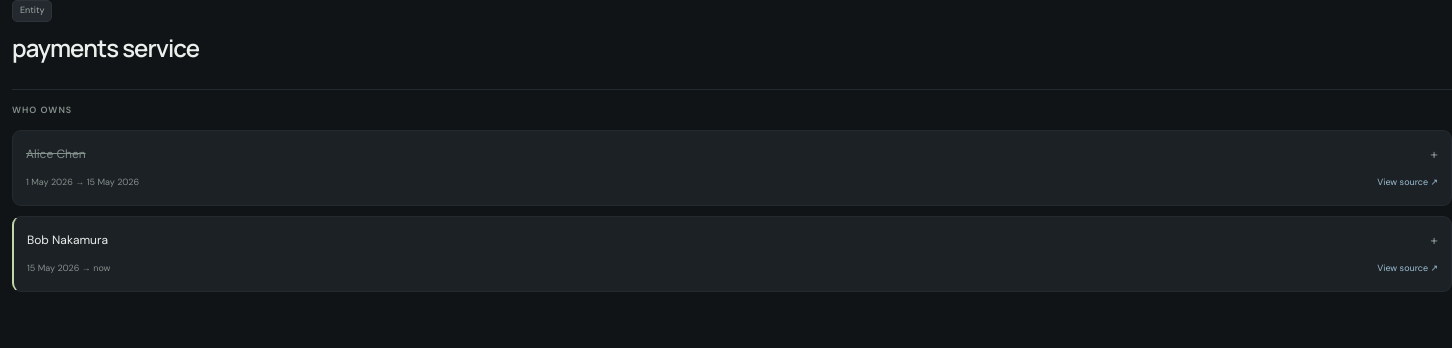
Scenario: clicking a fact explains it in plain English
This screenshot has width=1452, height=348.
Step 1. Click the button "Alice Chen +" → (56,154), box left=26, top=144, right=1438, bottom=166
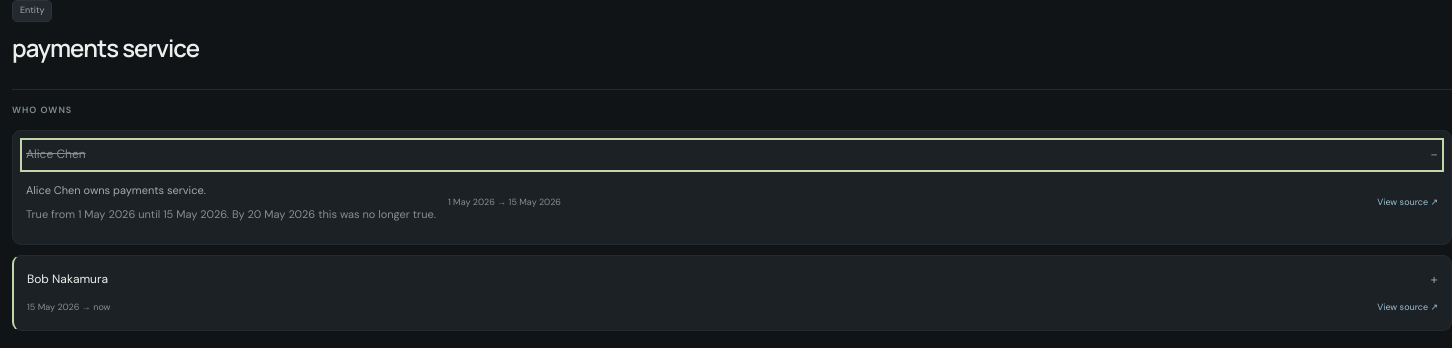
Check: the button "Alice Chen −" is expanded
Check: the text "Alice Chen owns payments service." is shown, box left=26, top=183, right=206, bottom=197
Check: the text "True from 1 May 2026 until 15 May 2026. By 20 May 2026 this was no longer true." is shown, box left=26, top=206, right=436, bottom=223
Step 2. Click the button "Alice Chen −" → (56,154), box left=26, top=144, right=1438, bottom=166
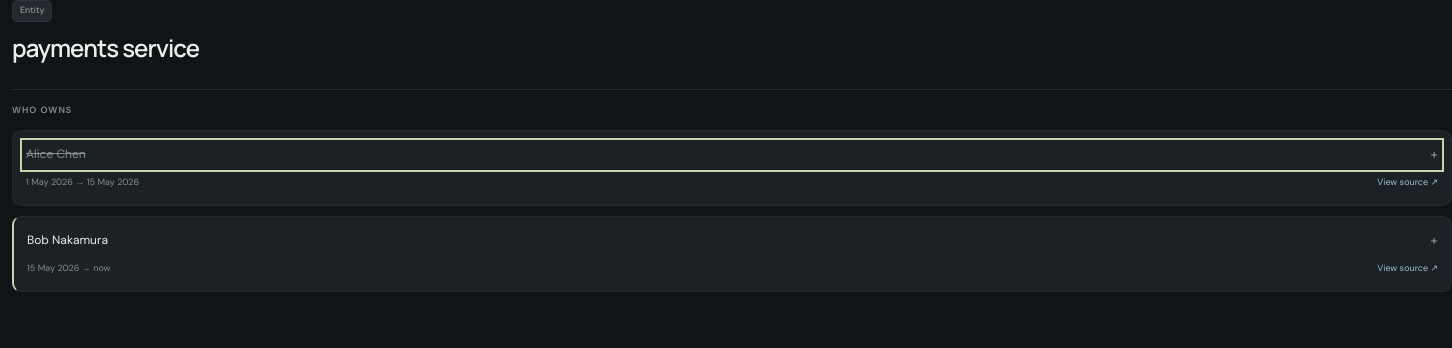
Check: the text "Alice Chen owns payments service." is gone
